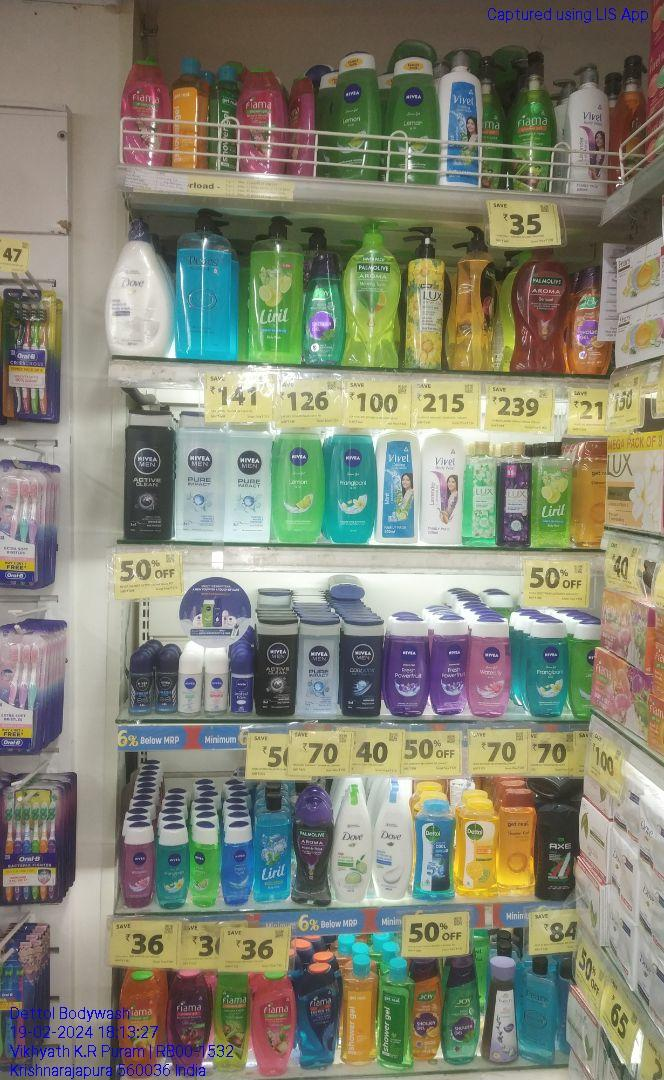Dettol_Bodywash_Cool: (413, 800, 452, 896)
Dettol_Bodywash_Refresh: (456, 795, 496, 893)
Dove_Gentle_Exfoliating_Body_Wash_250ML: (373, 790, 412, 900)
Dove_Refreshing_Body_Wash_250ML: (332, 789, 371, 903)
Fiama_Shower_Gel_Patchouli_and_Macadamia_250ML: (119, 58, 171, 167), (237, 68, 286, 175)
Get_Real_Shower_Gel_Moisturising_Glycerin_300ML: (498, 789, 534, 888), (575, 439, 605, 549)
Joy_Shower_Gel_Mandarin_and_Lemongrass_250ML: (571, 269, 600, 379)
Joy_Shower_Gel_Mint_and_Eucalyptus_250ML: (303, 254, 343, 364)
Liril_Cooling_Mint_Body_Wash_250ML: (253, 791, 291, 900)
Liril_Lime_and_Tea_Tree_Oil_Body_Wash_250ML: (534, 439, 570, 548)
Lux_Black_Orchid_Scent_and_Juniper_Oil_Body_Wash_245ML: (498, 442, 532, 551)
Lux_Body_Wash_Skin_Detox_Freesia_Scent_and_Alove_Vera_245ML: (465, 433, 495, 550)
Nivea_Shower_Gel_Frangipani_and_Oil_250ML: (330, 427, 377, 544), (527, 615, 568, 721), (156, 826, 188, 909)
Nivea_Shower_Gel_Fresh_Powerfruit_250ML: (383, 621, 429, 717), (431, 618, 465, 715)
Nivea_Shower_Gel_Lemon_and_Oil_250ML: (385, 59, 438, 185), (272, 423, 324, 542), (333, 52, 380, 178), (189, 822, 220, 907)
Nivea_Shower_Gel_Waterlily_and_Oil_250ML: (468, 622, 508, 718), (119, 824, 153, 907)
Palmolive_Aroma_Relax_250ML: (294, 791, 329, 905)
